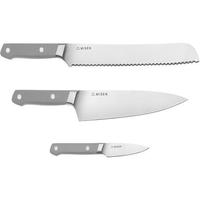knife: (1, 31, 199, 73), (6, 83, 189, 124), (45, 137, 156, 163)
